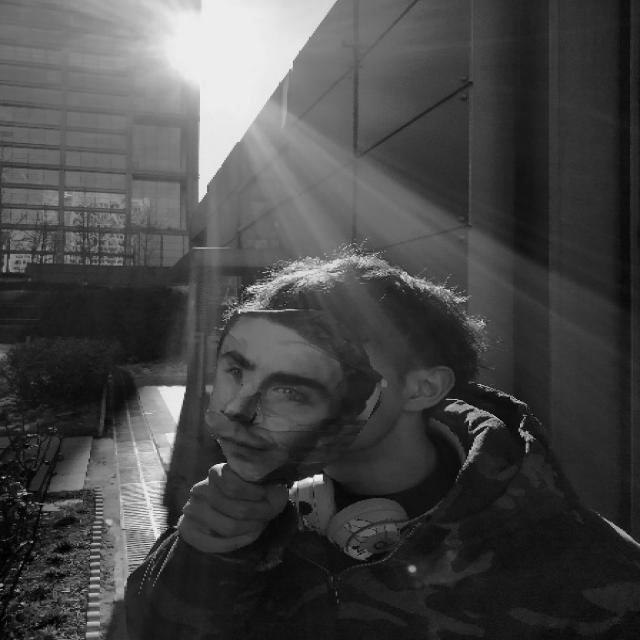fake: (191, 274, 401, 490)
